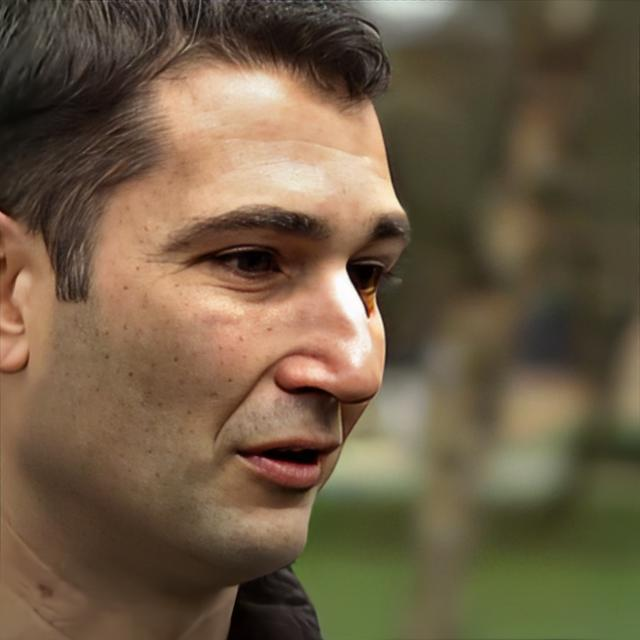neutral: (54, 61, 415, 592)
